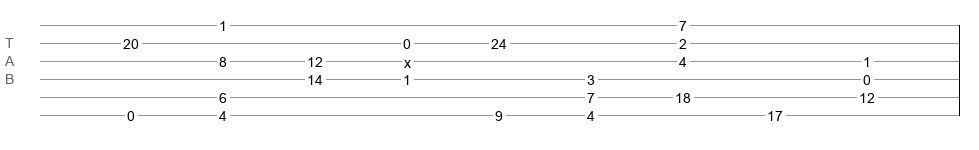0: (127, 108, 135, 118), (403, 36, 411, 46), (863, 72, 871, 82)
1: (219, 18, 227, 28), (403, 72, 411, 82), (863, 54, 871, 64)
12: (307, 54, 323, 64), (859, 90, 875, 100)
14: (307, 72, 323, 82)
17: (767, 108, 783, 118)
18: (675, 90, 691, 100)
2: (679, 36, 687, 46)
20: (123, 36, 139, 46)
24: (491, 36, 507, 46)
3: (587, 72, 595, 82)
4: (219, 108, 227, 118), (587, 108, 595, 118), (679, 54, 687, 64)
6: (219, 90, 227, 100)
7: (587, 90, 595, 100), (679, 18, 687, 28)
8: (219, 54, 227, 64)
9: (495, 108, 503, 118)
x: (404, 55, 411, 63)
